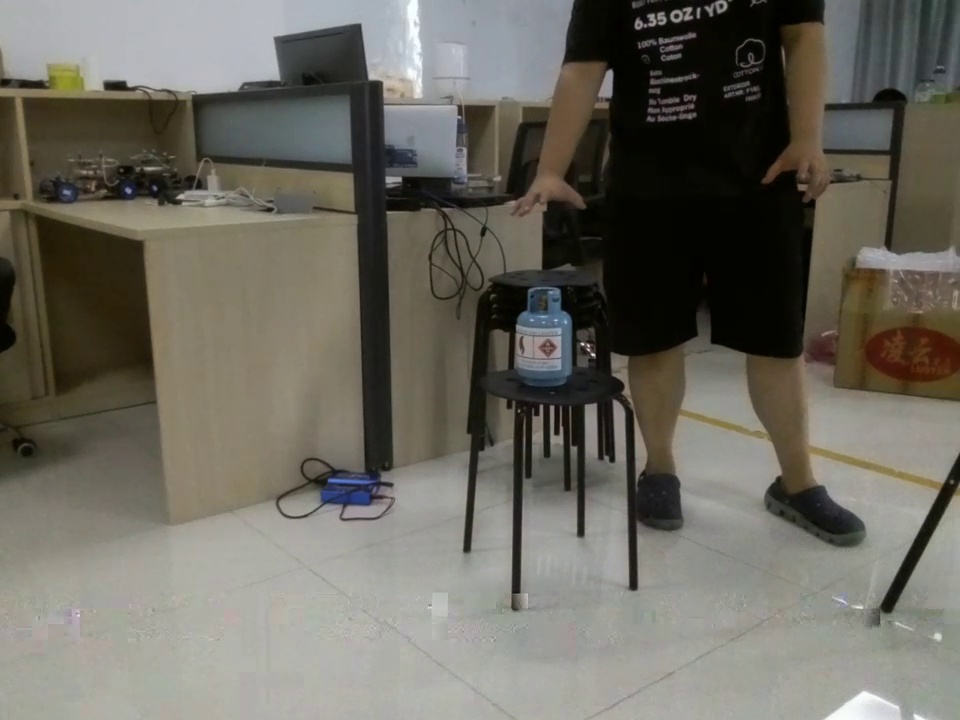gas tank: (513, 283, 579, 395)
